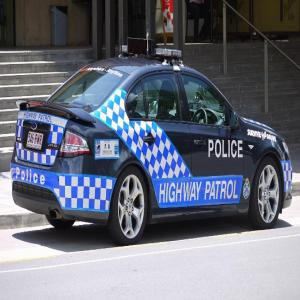Vehicle-registration-plate: (27, 133, 44, 151)
